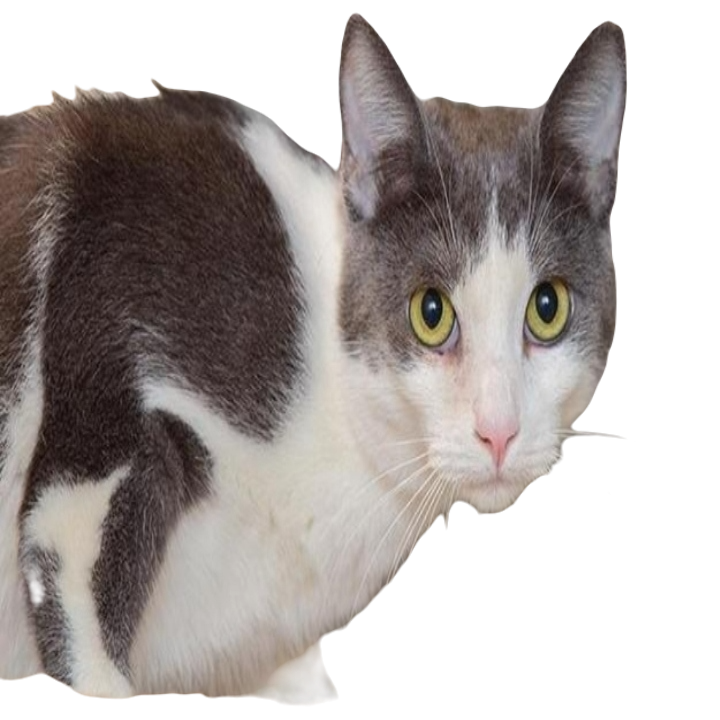Cat: (0, 11, 665, 706)
